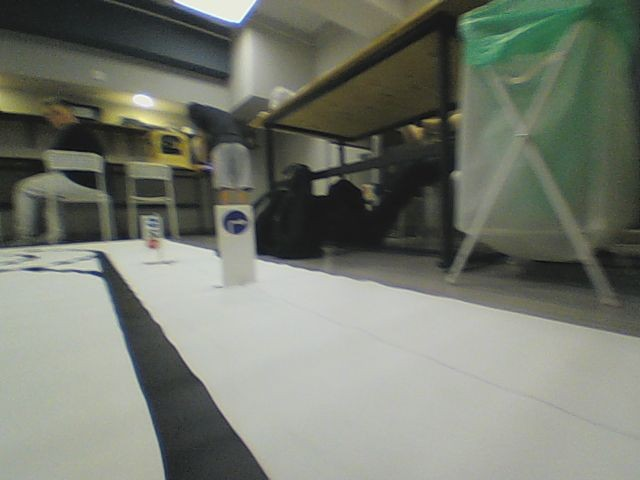Right: (220, 209, 251, 236)
